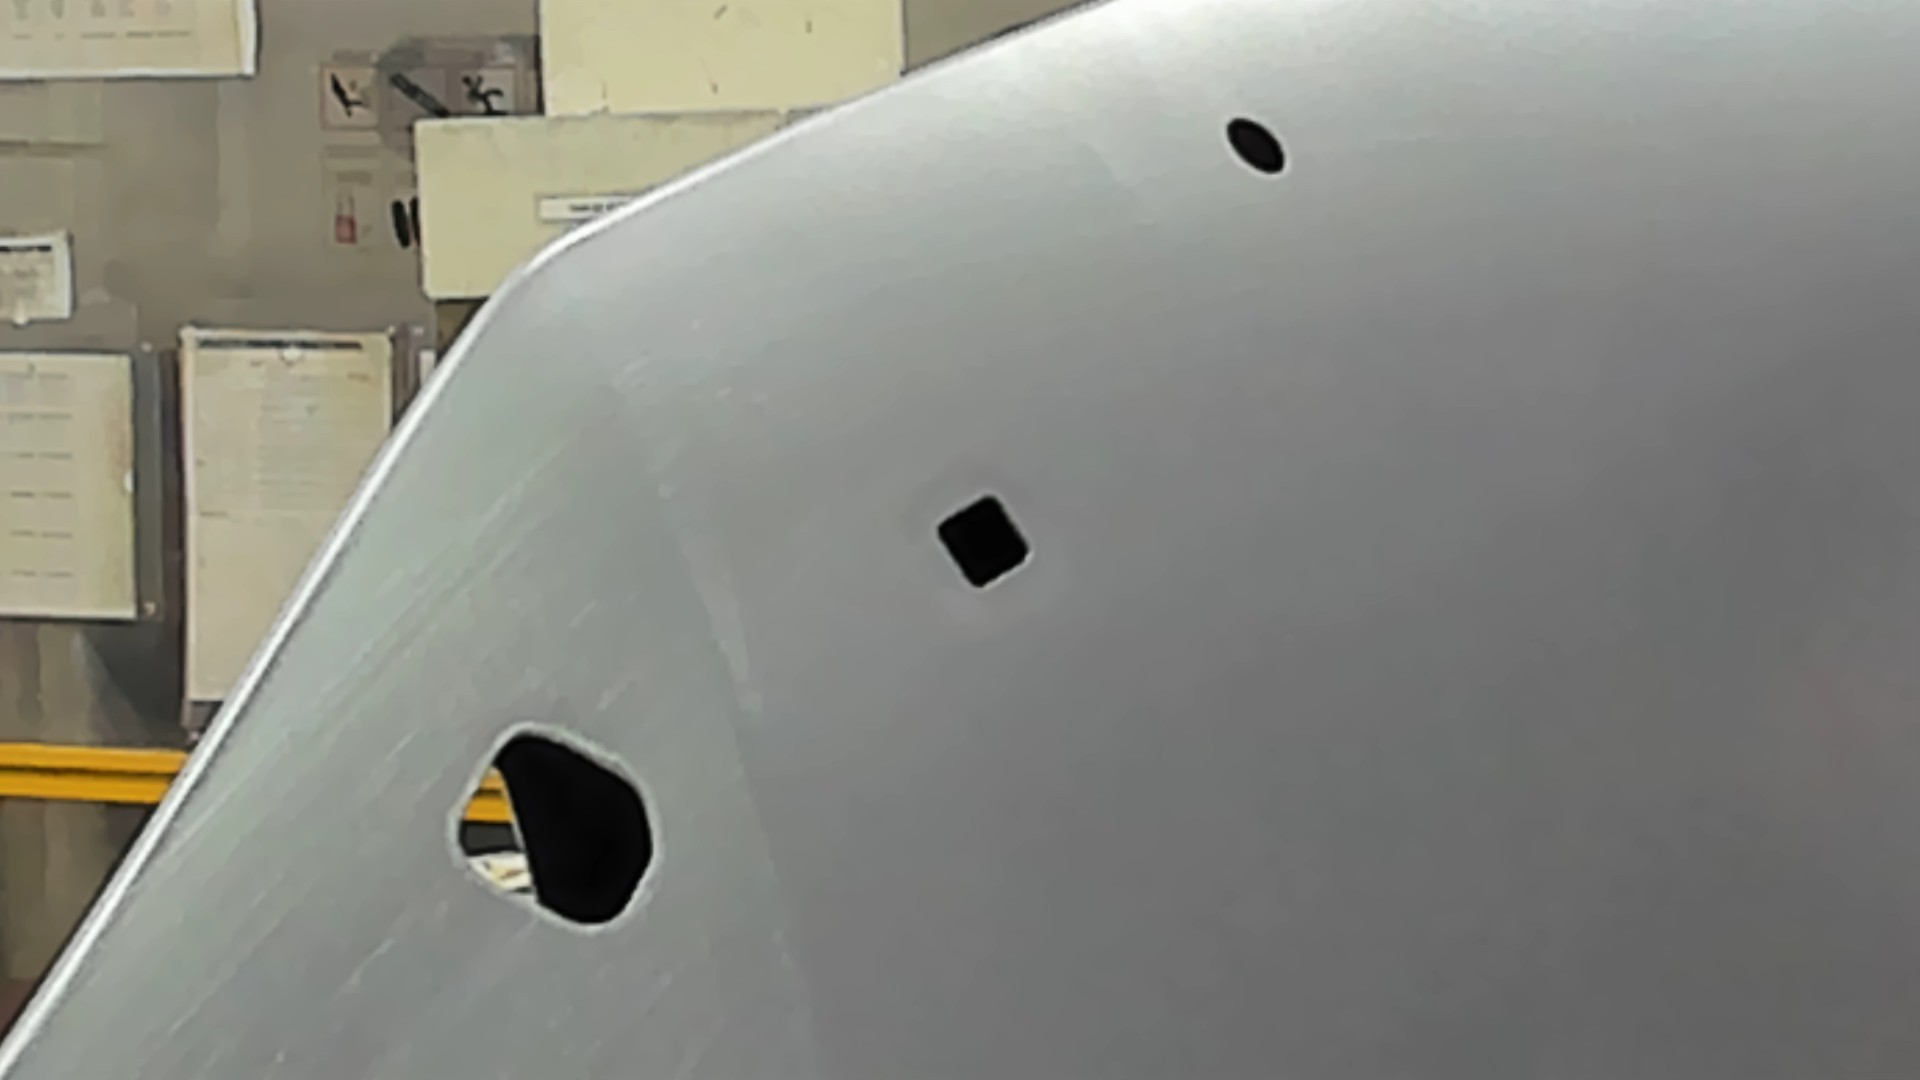chico: (1216, 109, 1292, 181)
grande: (436, 715, 665, 935)
mediano: (928, 485, 1036, 600)
